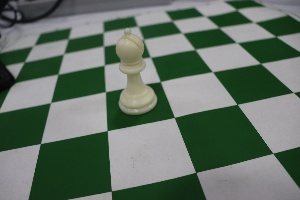white_bishop: (107, 19, 162, 118)
